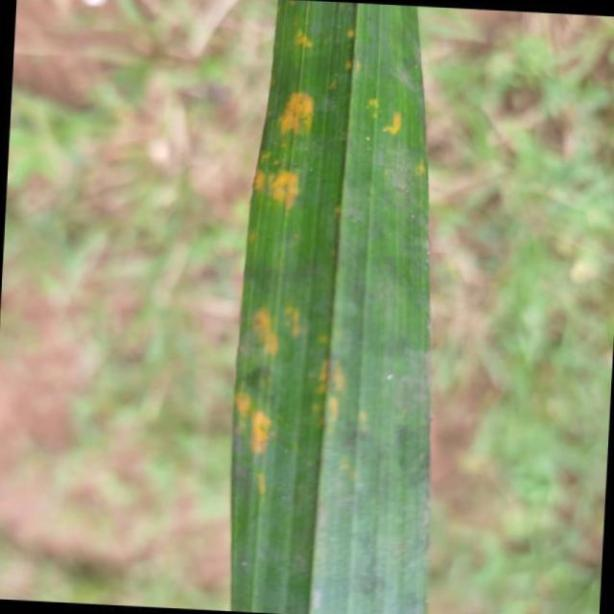Kalium: (227, 0, 430, 614)
